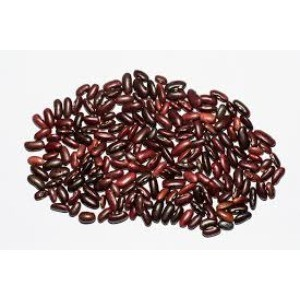beans_brain food: (59, 109, 251, 191)
